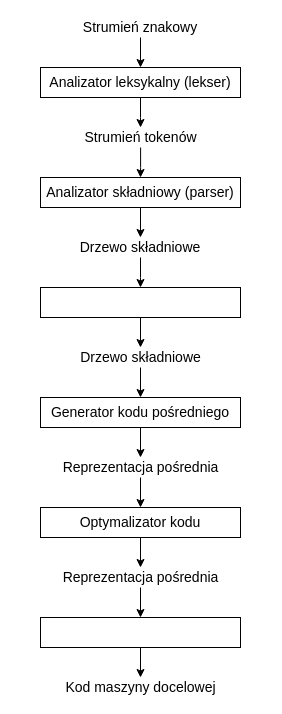
The diagram is 282 pixels wide and 714 high, and some of its shapes have lost their labels. The centre of each missing label's shape, as x and y in pixels:
"Analizator semantyczny" goes at [140,302].
"Generator kodu" goes at [140,632].
